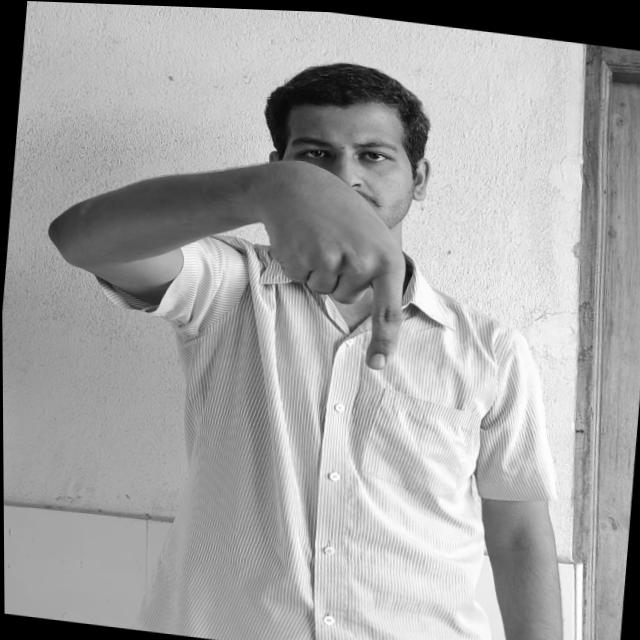Now: (242, 168, 411, 372)
